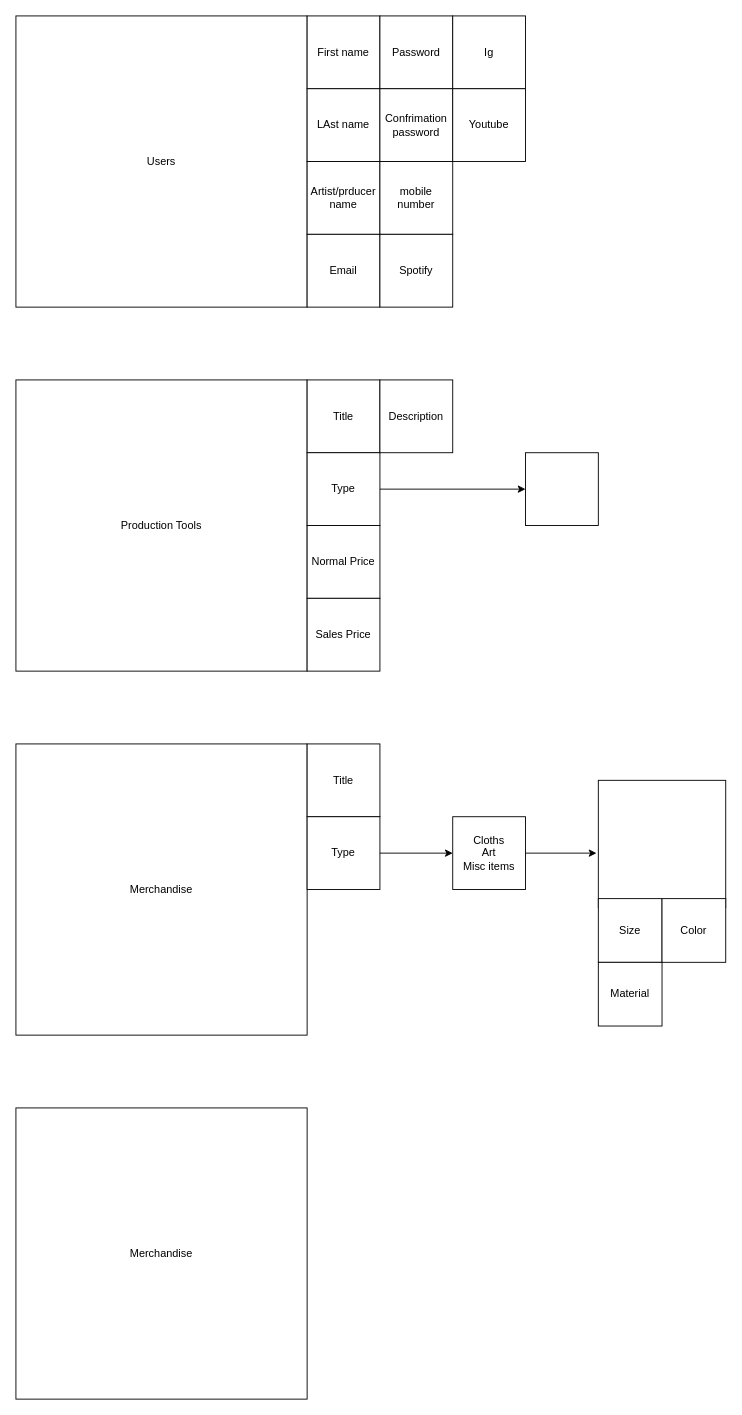
Some shapes in this 742 by 1415 pixel diagram are drawn without their labels. The box of each missing label's shape, as (x1, y1, x2, y2) in pixels:
compositions MPC Expansions presets Midi Drum Loops: (525, 452, 598, 526)
Hoodies Sweats Shirts Hat: (597, 779, 726, 908)
